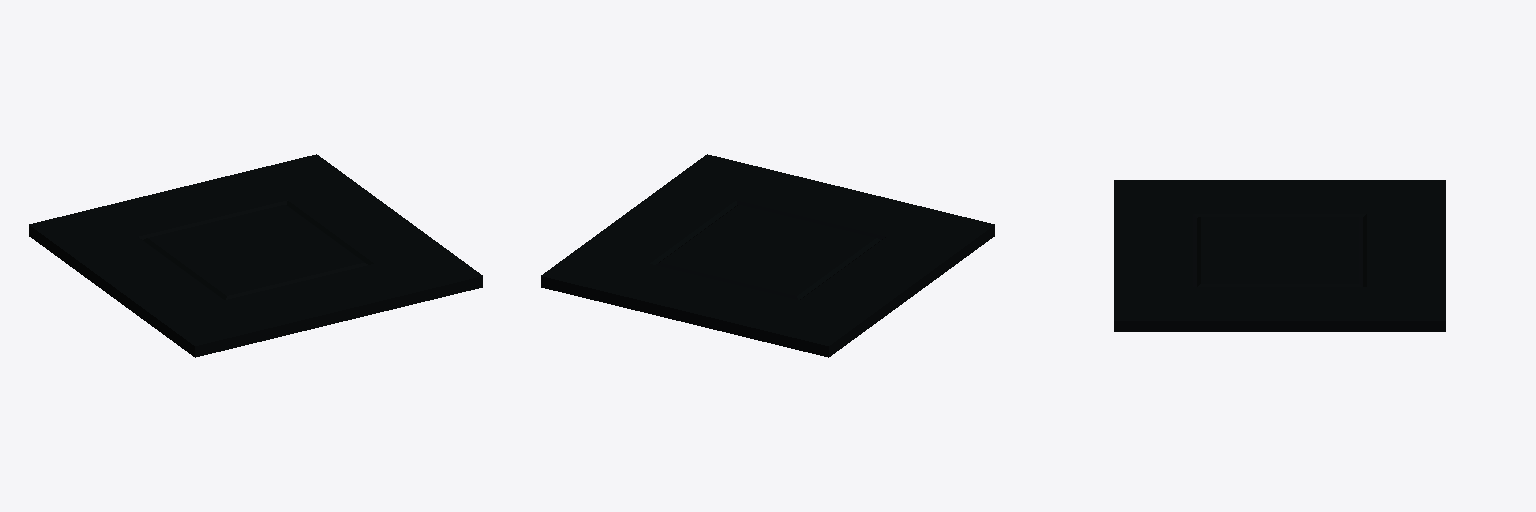
Rendered from Ceiling_Tile_Grey_Metal.obj.
3 renders of one model, left to right at view 1: azimuth 30°, elevation 25°; view 2: azimuth 150°, elevation 25°; view 3: azimuth 270°, elevation 25°, orthographic.
Parts seen in each view (by area): view 1: Ceiling_Tile_Grey_Metal; view 2: Ceiling_Tile_Grey_Metal; view 3: Ceiling_Tile_Grey_Metal.
Part boxes in pixels (left/top/right/bottom): Ceiling_Tile_Grey_Metal: left=29, top=154, right=482, bottom=357; Ceiling_Tile_Grey_Metal: left=541, top=154, right=994, bottom=357; Ceiling_Tile_Grey_Metal: left=1114, top=180, right=1445, bottom=331.
Size of the model in its own units: 4 by 0.1515 by 4.